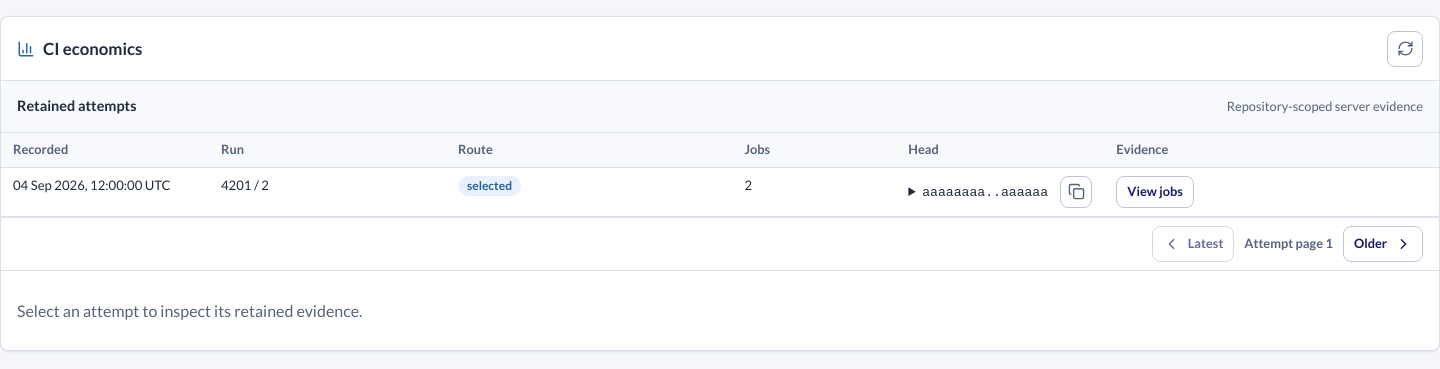
Test case: advances one bounded attempt page only after an operator action
Expected: the text "4201 / 2" is shown, 209,167 -> 446,216
Click the button "Older".
click(1383, 244)  # box 1343,226 -> 1423,262
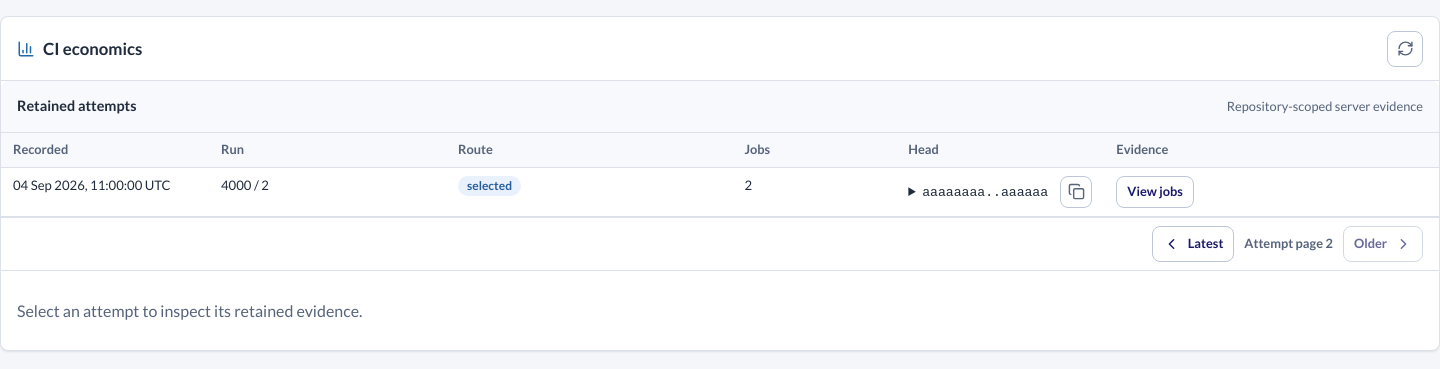
Now the text "4000 / 2" is shown, box 209,167 -> 446,216
Now the text "4201 / 2" is gone
